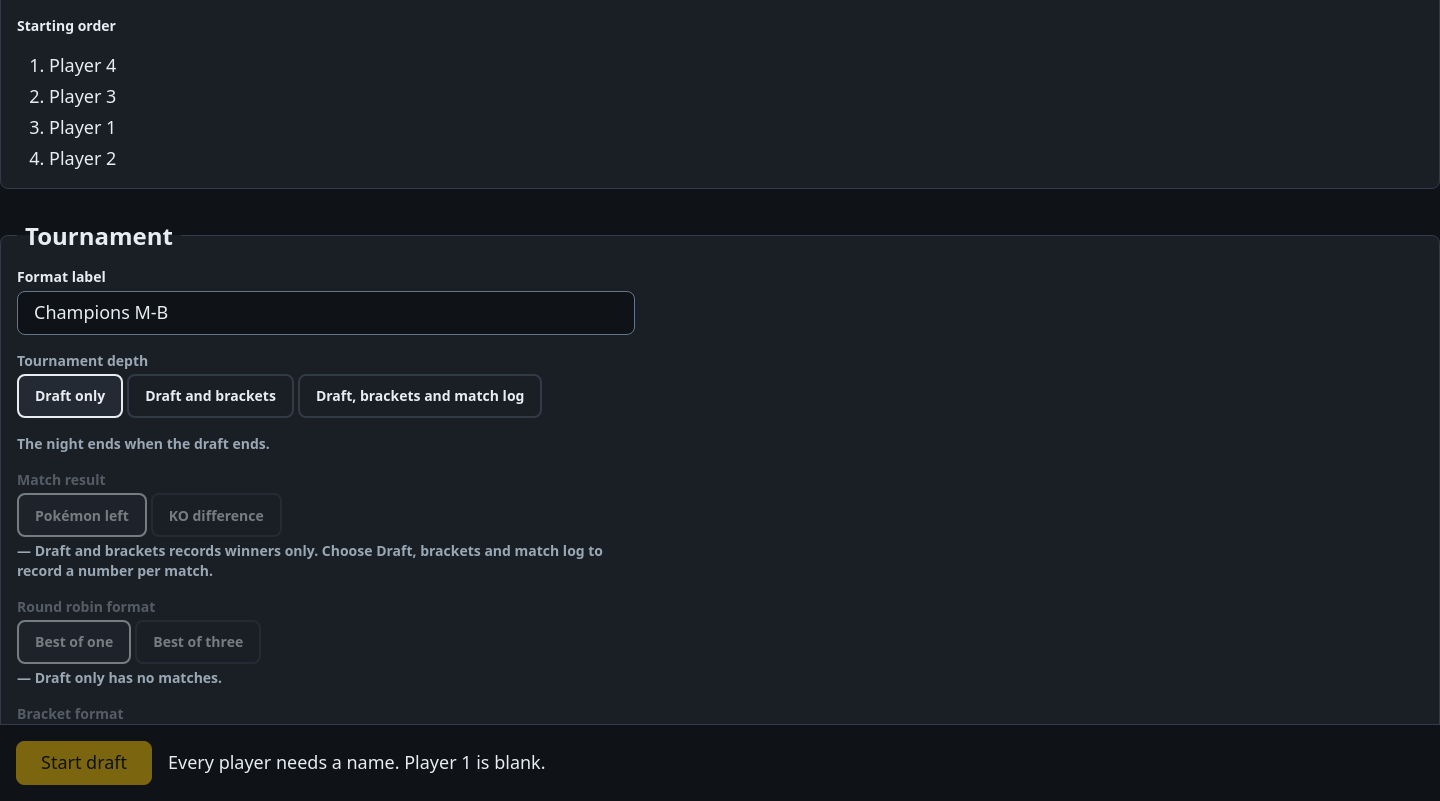
the depth note › names the number per match at Draft, brackets and match log
(page scrolled)
Click the radio button labelled "Draft, brackets and match log".
click(420, 396)  # box [298, 374, 542, 418]
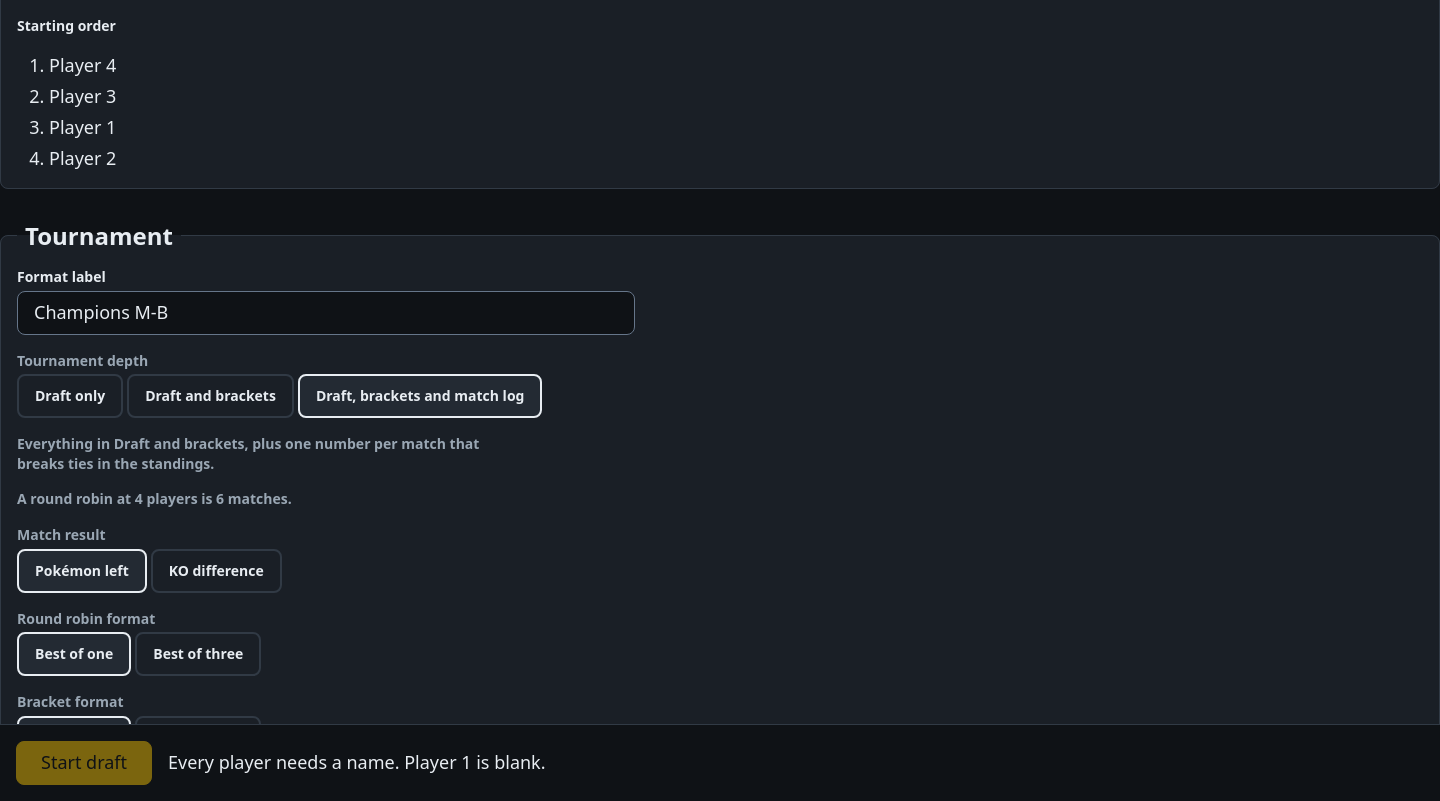
Result: the text "Everything in Draft and brackets, plus one number per match that breaks ties in the standings." is shown at [17, 434, 479, 473]
